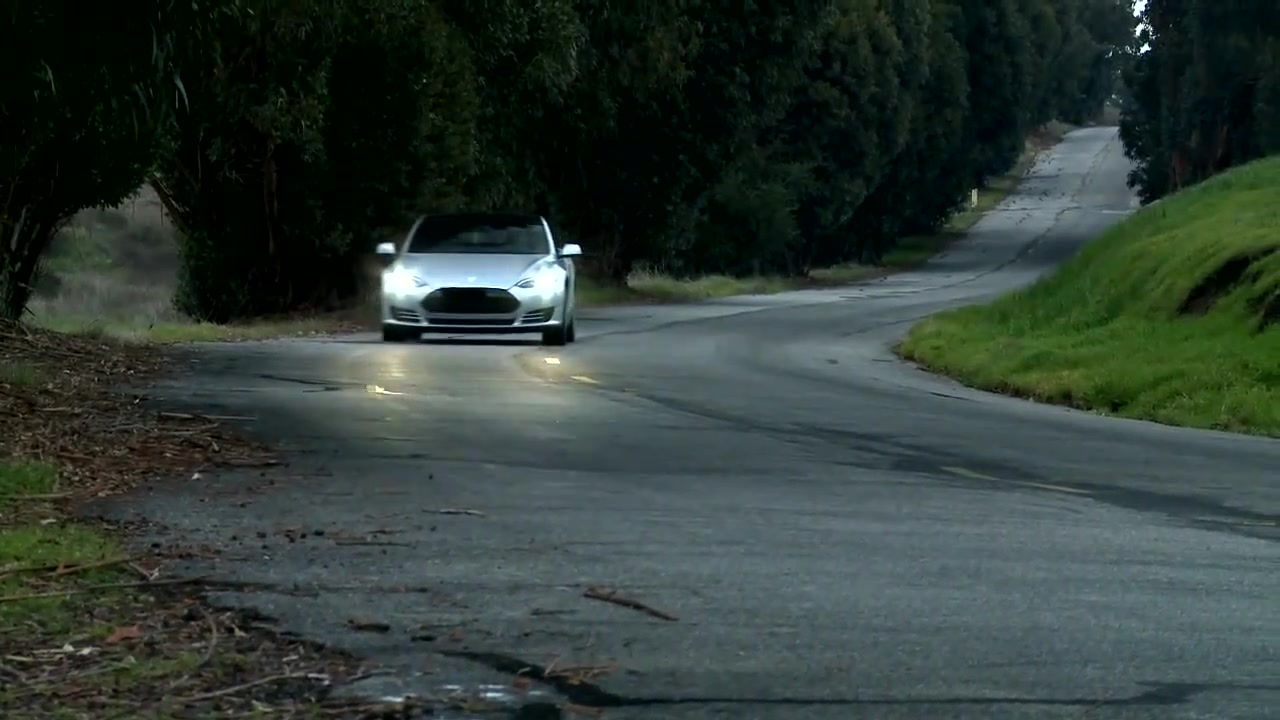car: (376, 205, 584, 348)
